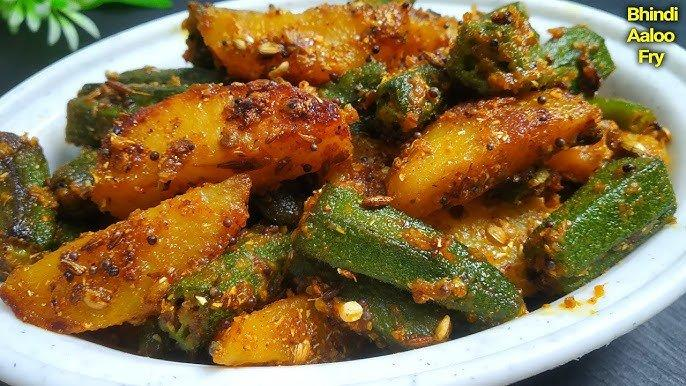bhindi: (5, 56, 686, 343)
